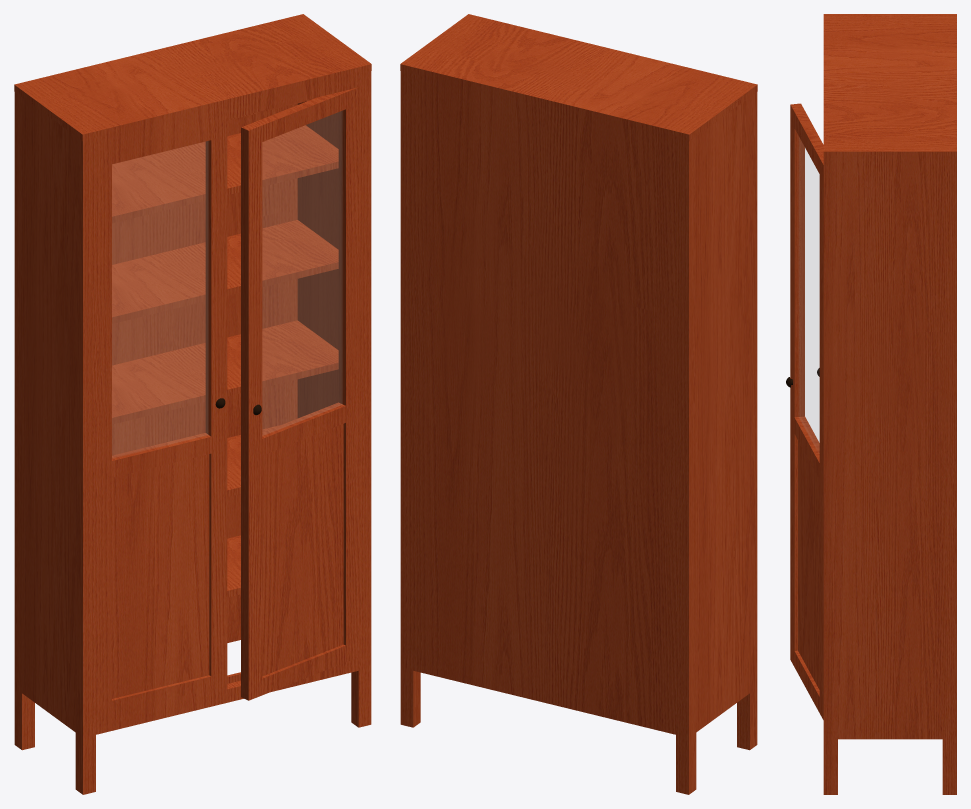
Rendered from HEMNES_Sideboard_Table.obj.
3 views of the same model, side by side, from view 1: azimuth 30°, elevation 25°; view 2: azimuth 150°, elevation 25°; view 3: azimuth 270°, elevation 25° (orthographic). The views are drawn at different scales.
Visible parts, largest first — view 1: Revit_008539_01, Revit_020954_11; view 2: Revit_008539_01; view 3: Revit_008539_01, Revit_020954_11.
Boxes of the visible parts, x1,y1,x2,y2 form: Revit_008539_01: (14, 14, 371, 794); Revit_020954_11: (112, 111, 341, 457); Revit_008539_01: (400, 14, 757, 794); Revit_008539_01: (790, 14, 956, 794); Revit_020954_11: (799, 138, 818, 448).
Bounding box in the file's own units: 903 × 1970 × 474.
